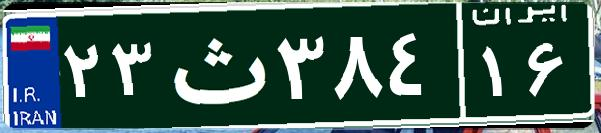1: (475, 38, 525, 113)
2: (57, 26, 110, 107)
3: (273, 28, 330, 110), (110, 28, 158, 105)
4: (385, 28, 445, 110)
6: (525, 38, 570, 115)
8: (330, 28, 385, 110)
ث: (158, 15, 273, 115)
